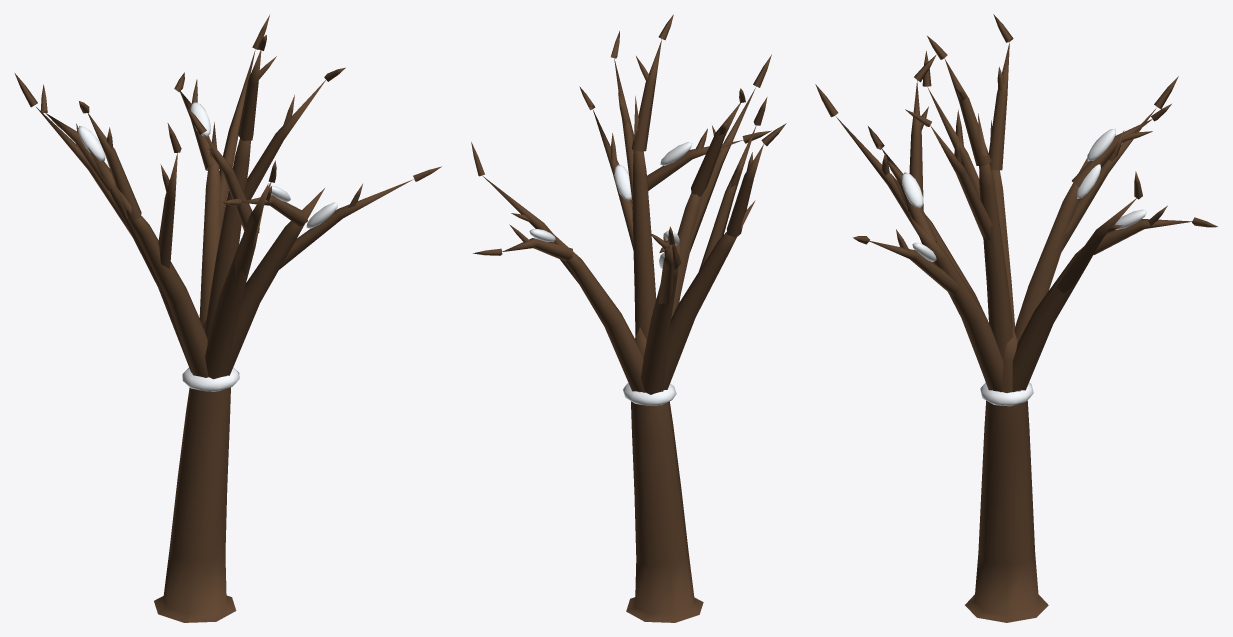
File: decor_feuillu_hiver_3.glb
3 views of the same model, side by side, from view 1: azimuth 30°, elevation 25°; view 2: azimuth 150°, elevation 25°; view 3: azimuth 270°, elevation 25° (orthographic). The views are drawn at different scales.
Parts seen in each view (by area): view 1: tronc, neige; view 2: tronc, neige; view 3: tronc, neige.
Part boxes in pixels (x1,y1,x2,y2): tronc: (14, 15, 441, 622); neige: (78, 102, 338, 391); tronc: (471, 14, 786, 622); neige: (529, 142, 692, 405); tronc: (815, 14, 1217, 622); neige: (902, 128, 1147, 406).
Size of the model in its own units: 0.3252 by 0.6311 by 0.3947.
